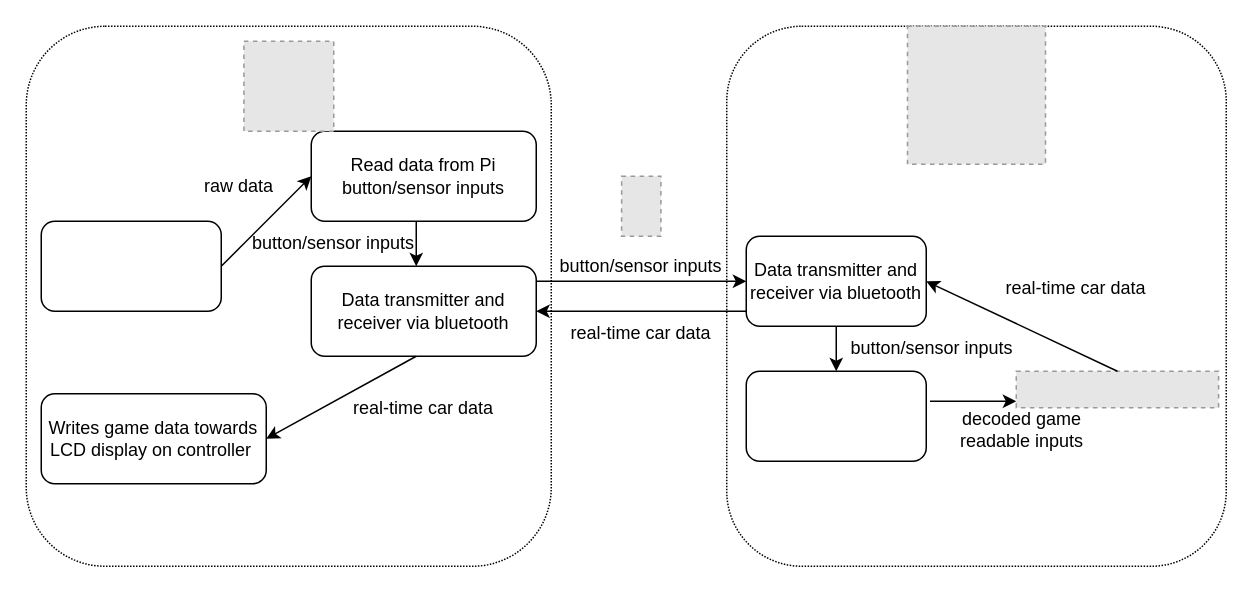
The diagram is 1253 pixels wide and 593 high, and some of its shapes have lost their labels. Grey dashed boxes stand in for pictures. Each missing label, with the box of its shape:
Interpret inputs as controller inputs: (745, 370, 926, 461)
Raspberrypi controller: (40, 220, 221, 311)
